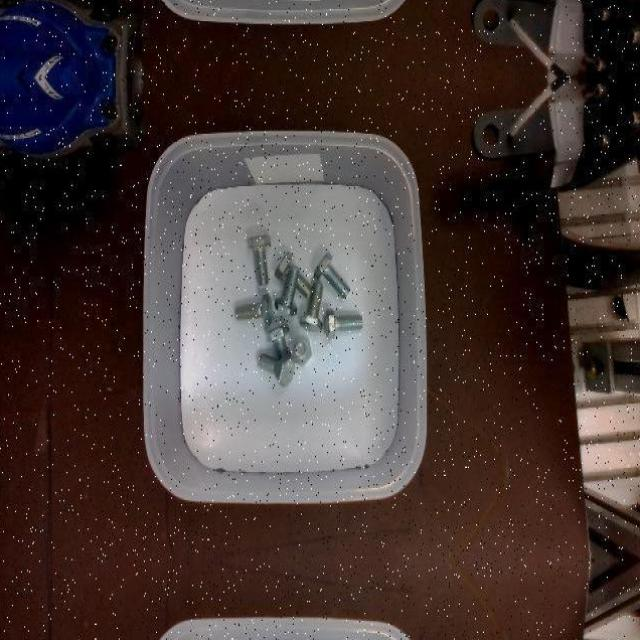screw: (313, 252, 350, 298), (235, 293, 276, 325), (256, 353, 294, 387), (276, 266, 300, 316), (325, 309, 363, 340), (299, 280, 322, 330), (248, 234, 270, 286), (290, 334, 312, 364)
